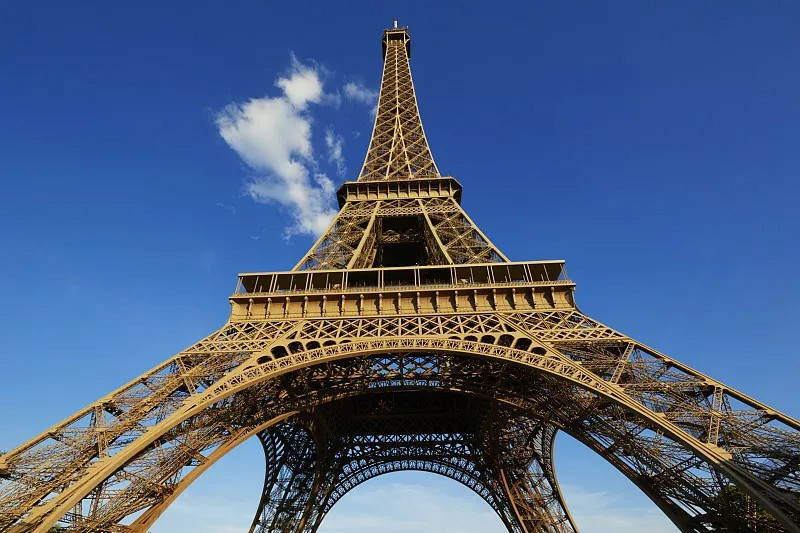Eiffel: (1, 16, 800, 533)
